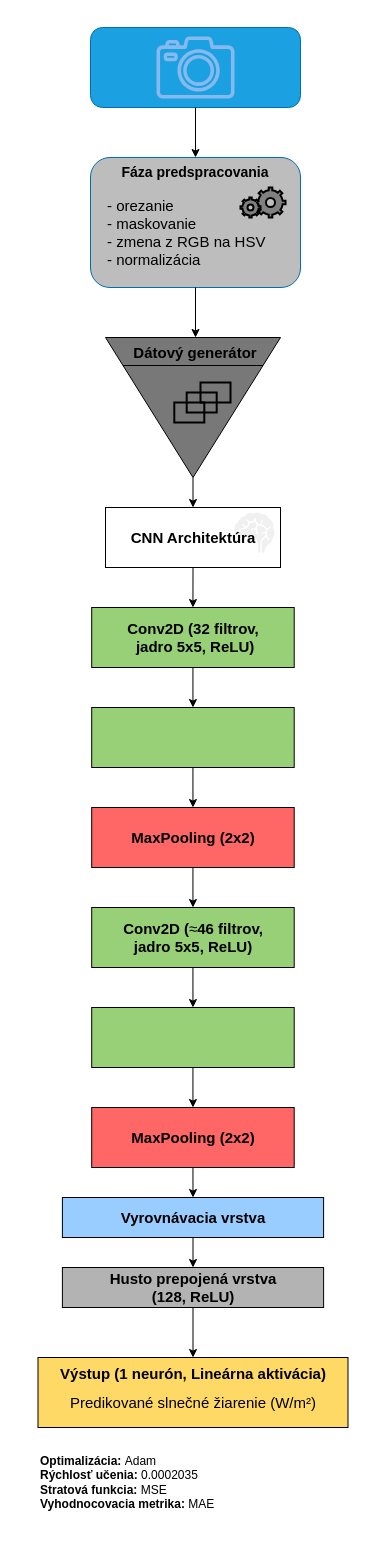
The diagram is 385 pixels wide and 1565 high, and some of its shapes have lost their labels. Each missing label, with the centre of its shape:
"Conv2D ( ≈ 38 filtrov, jadro 5x5, ReLU)" belongs at point 192,737.
"Conv2D ( ≈ 55 filtrov, jadro 5x5, ReLU)" belongs at point 192,1037.
"Vstupný fisheye snímok" belongs at point 195,67.
